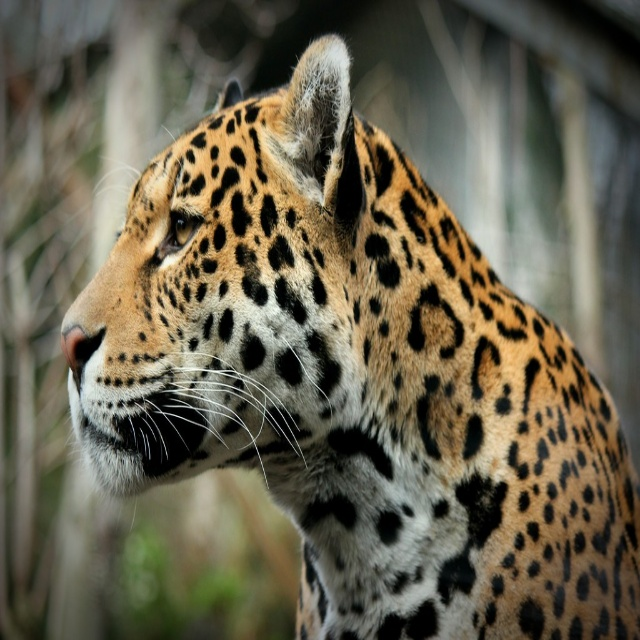Jaguar: (57, 31, 640, 639)
